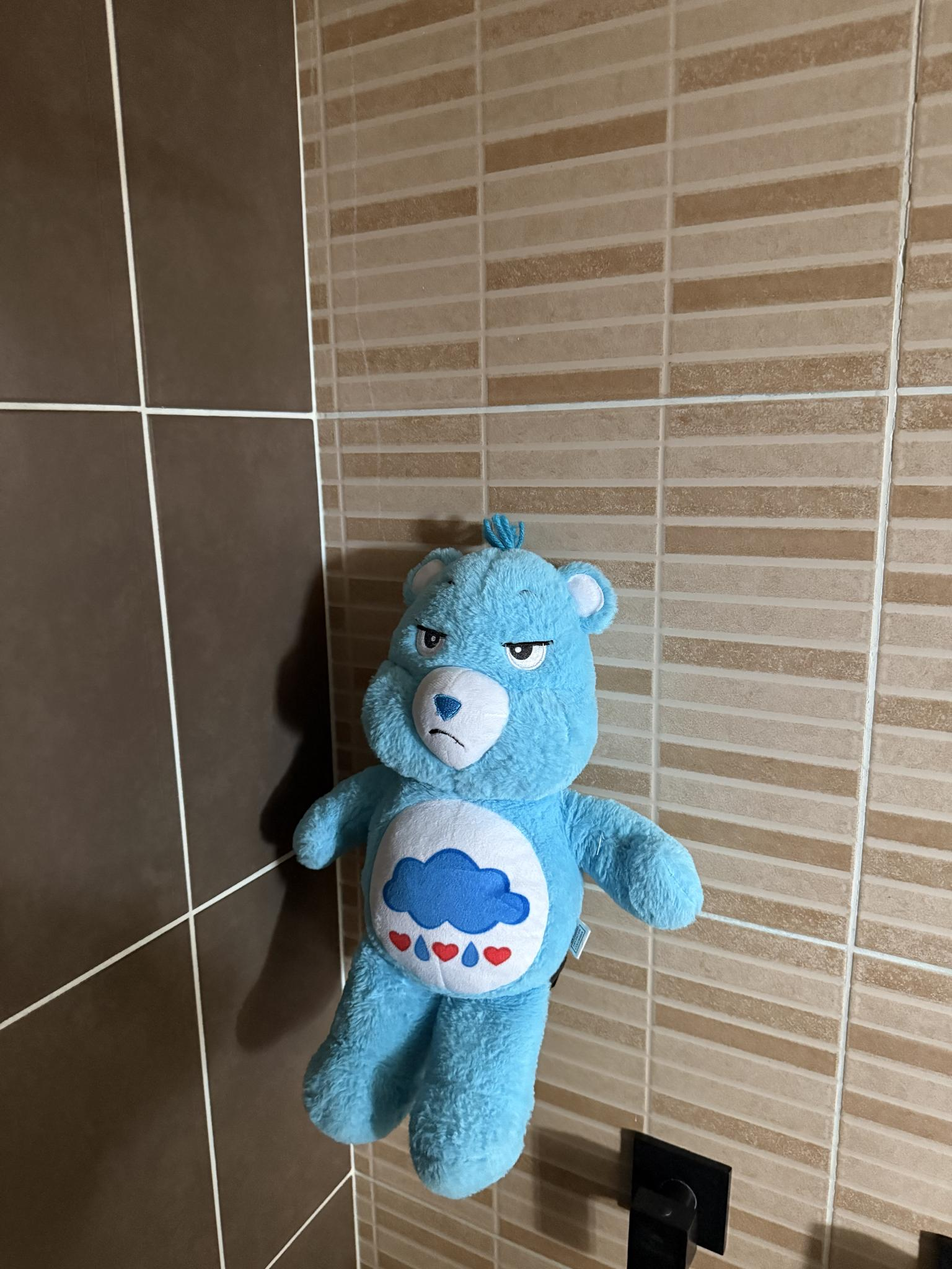peluche_Juan Jose: (290, 511, 702, 1199)
